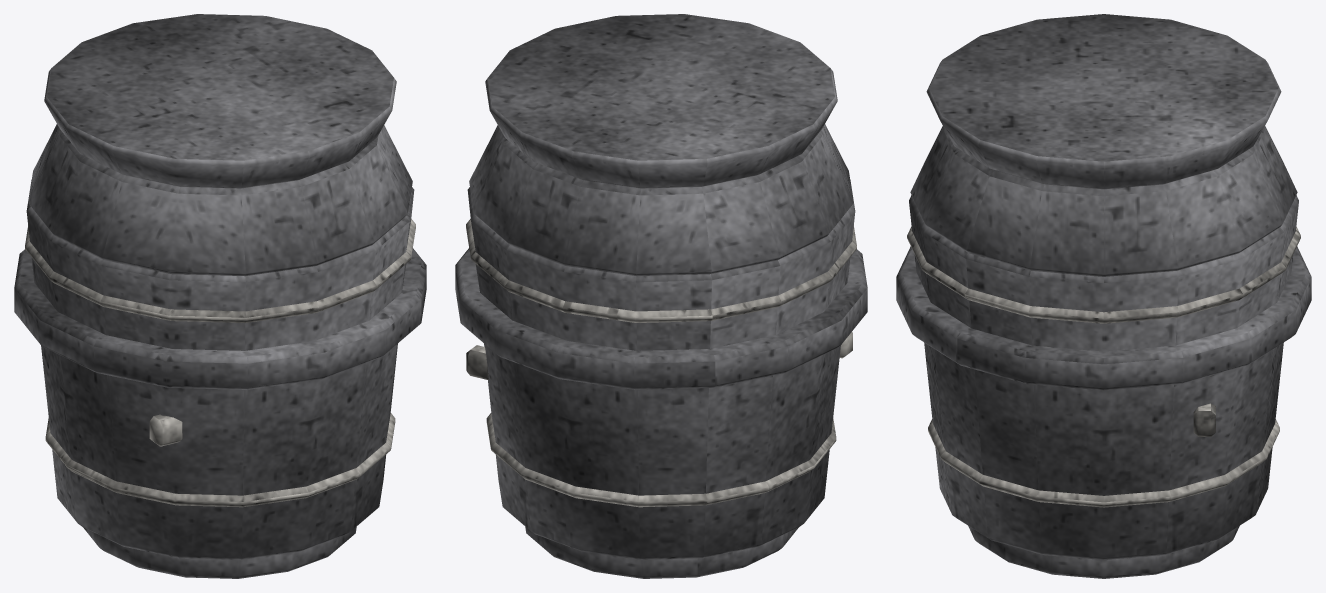
The model's file is water_jar.fbx.
3 views of the same model, side by side, from view 1: azimuth 30°, elevation 25°; view 2: azimuth 150°, elevation 25°; view 3: azimuth 270°, elevation 25° (orthographic).
Visible parts, largest first — view 1: water_jar; view 2: water_jar; view 3: water_jar.
Boxes of the visible parts, <box> form: water_jar: <box>14,14,426,578</box>; water_jar: <box>455,14,867,578</box>; water_jar: <box>896,14,1311,578</box>.
Bounding box in the file's own units: 52 × 60 × 52.
